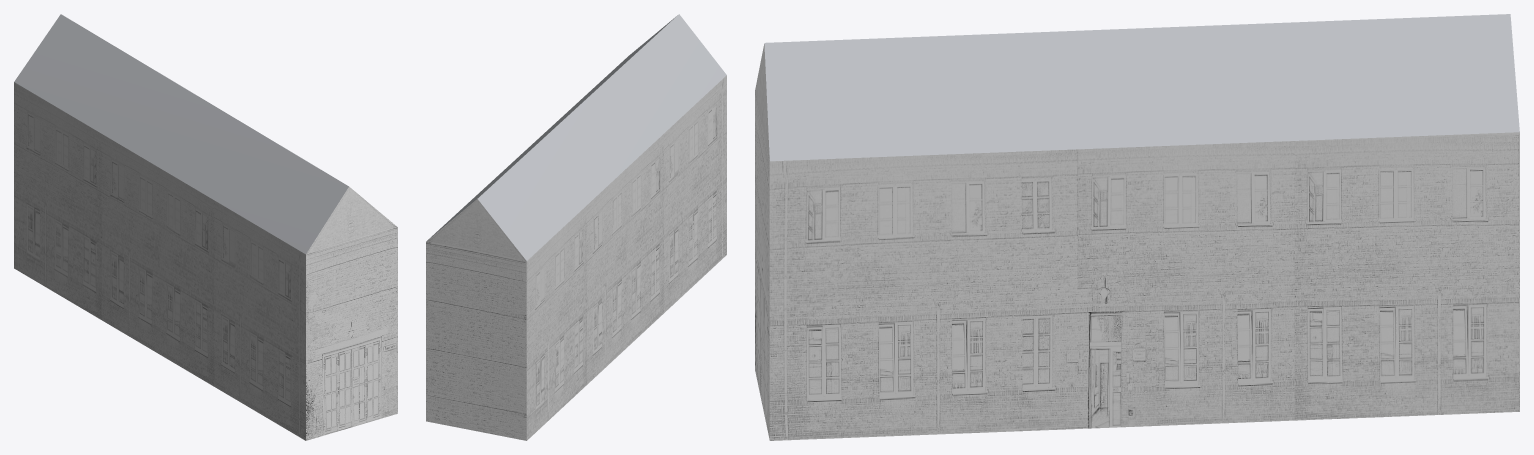
Rendered from Technische_Leitzentrale.gltf.
The picture shows the model from 3 angles, left to right: view 1: azimuth 30°, elevation 25°; view 2: azimuth 150°, elevation 25°; view 3: azimuth 270°, elevation 25°; orthographic projection. The views are drawn at different scales.
Visible parts, largest first — view 1: Dach.1; view 2: Dach.1; view 3: Dach.1.
Part boxes in pixels (bbox=[...]): Dach.1: bbox=[14, 14, 397, 440]; Dach.1: bbox=[426, 14, 726, 440]; Dach.1: bbox=[755, 14, 1519, 440].
Bounding box in the file's own units: 9.1 × 15.06 × 28.91.
Materials: 6 (5 with a texture image).
